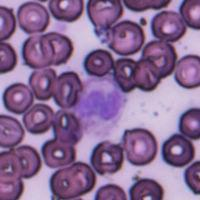N: (74, 84, 127, 128)
